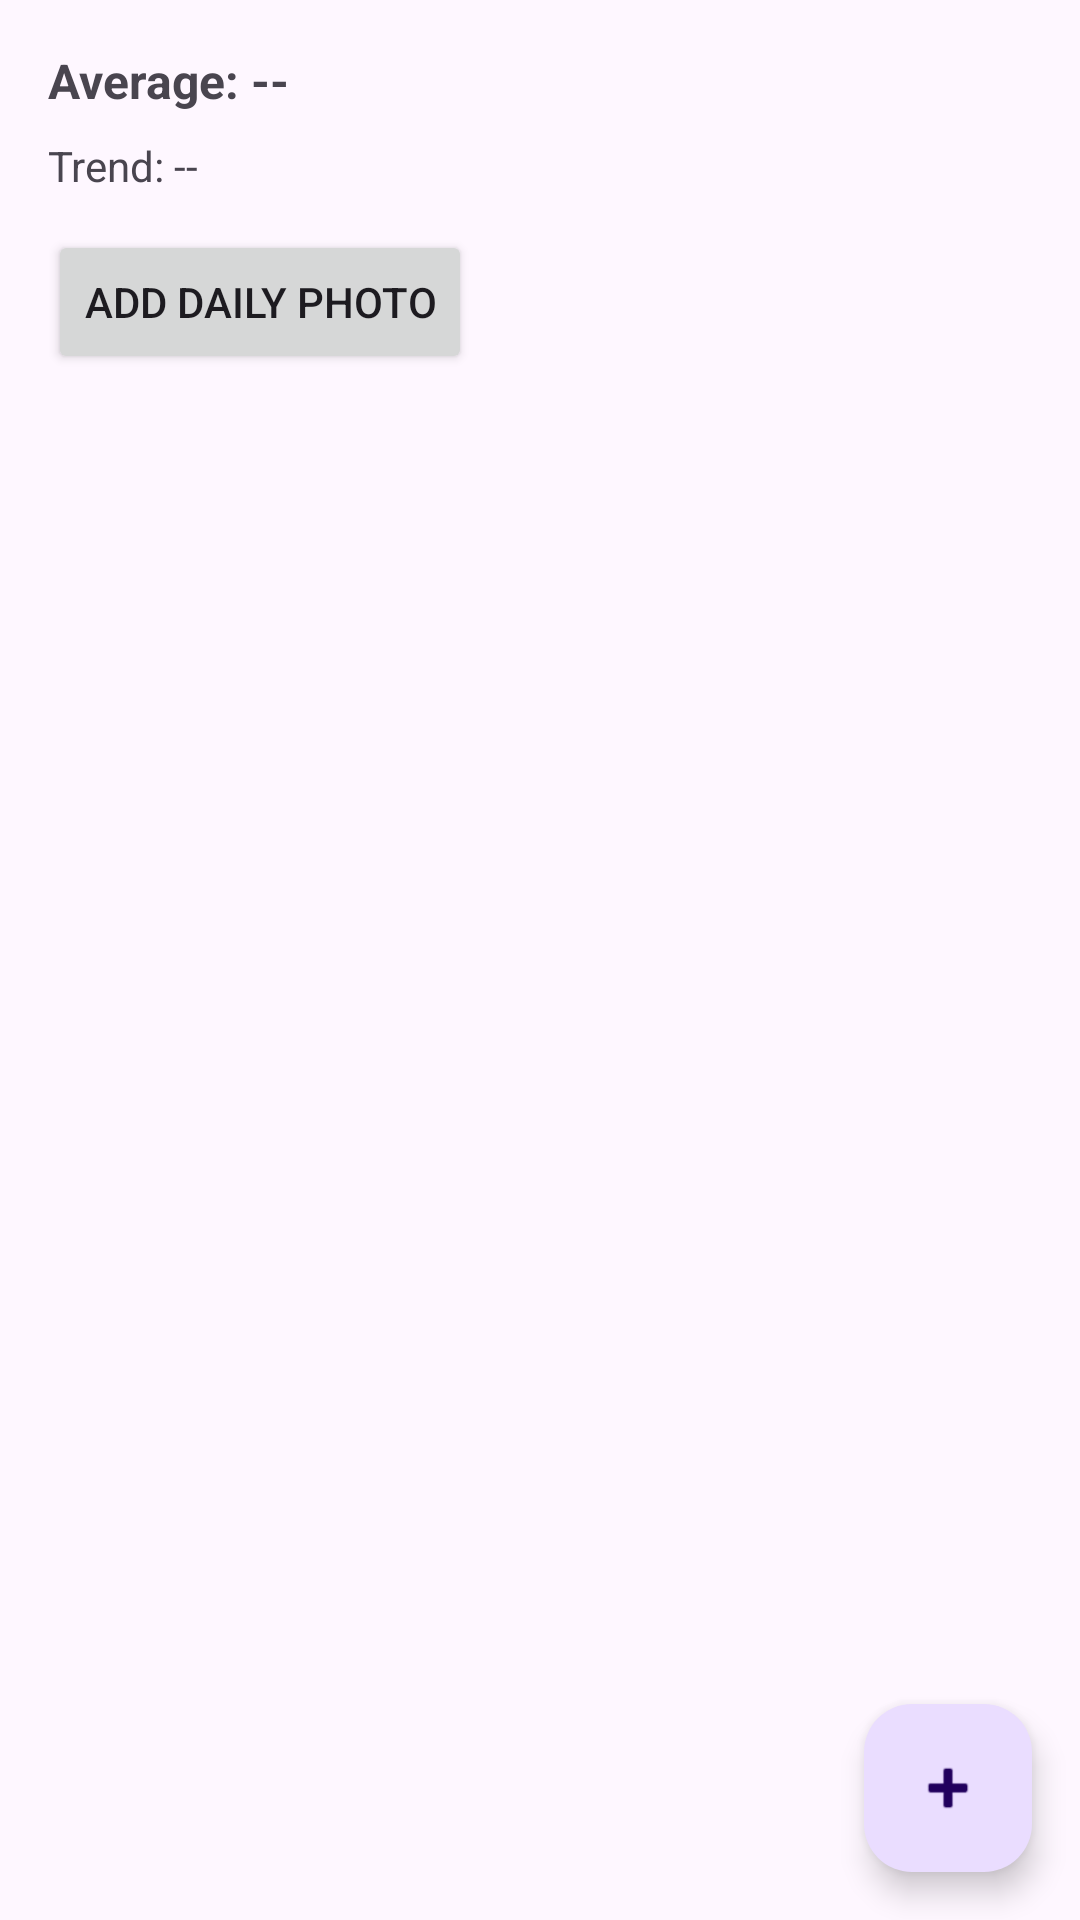

Screen size 1080x1920. Icon name, then its box in pixels as (x1, y1, x2, y2):
Add Entry: (864, 1704, 1032, 1872)
